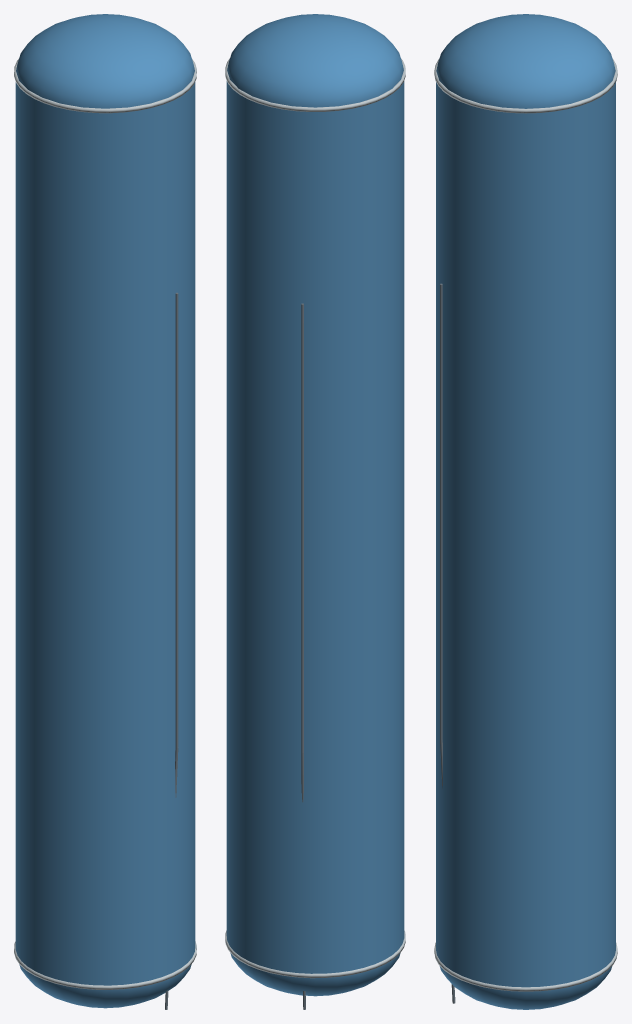
File: falcon9_stage_1_lox_vessel.glb
3 renders of one model, left to right at view 1: azimuth 30°, elevation 25°; view 2: azimuth 150°, elevation 25°; view 3: azimuth 270°, elevation 25°, orthographic.
Visible parts, largest first — view 1: falcon9_stage_1_lox_vessel.mesh_Cutaway_liquid_oxygen, falcon9_stage_1_lox_vessel.mesh_Satin_aluminum, falcon9_stage_1_lox_vessel.mesh_Machined_steel; view 2: falcon9_stage_1_lox_vessel.mesh_Cutaway_liquid_oxygen, falcon9_stage_1_lox_vessel.mesh_Satin_aluminum, falcon9_stage_1_lox_vessel.mesh_Machined_steel; view 3: falcon9_stage_1_lox_vessel.mesh_Cutaway_liquid_oxygen, falcon9_stage_1_lox_vessel.mesh_Satin_aluminum, falcon9_stage_1_lox_vessel.mesh_Machined_steel.
Part boxes in pixels (bbox=[...]): falcon9_stage_1_lox_vessel.mesh_Cutaway_liquid_oxygen: bbox=[15, 14, 195, 1008]; falcon9_stage_1_lox_vessel.mesh_Satin_aluminum: bbox=[14, 59, 196, 989]; falcon9_stage_1_lox_vessel.mesh_Machined_steel: bbox=[165, 292, 178, 1009]; falcon9_stage_1_lox_vessel.mesh_Cutaway_liquid_oxygen: bbox=[226, 14, 404, 996]; falcon9_stage_1_lox_vessel.mesh_Satin_aluminum: bbox=[225, 58, 405, 978]; falcon9_stage_1_lox_vessel.mesh_Machined_steel: bbox=[301, 303, 305, 1009]; falcon9_stage_1_lox_vessel.mesh_Cutaway_liquid_oxygen: bbox=[436, 14, 615, 1009]; falcon9_stage_1_lox_vessel.mesh_Satin_aluminum: bbox=[434, 59, 617, 991]; falcon9_stage_1_lox_vessel.mesh_Machined_steel: bbox=[440, 283, 455, 1003].
Bounding box in the file's own units: 3.52 × 20.5 × 3.52.
